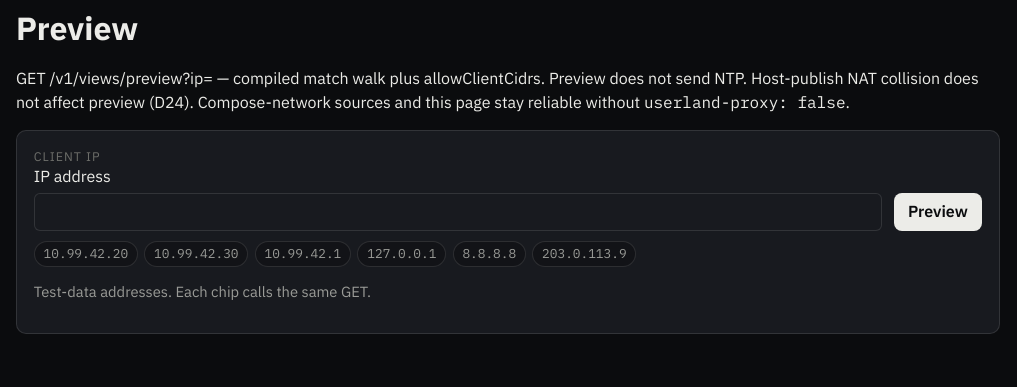
Scenario: PreviewPage › requires an IP on empty submit
Click the button "Preview" at (938, 212), box [894,193,982,231]
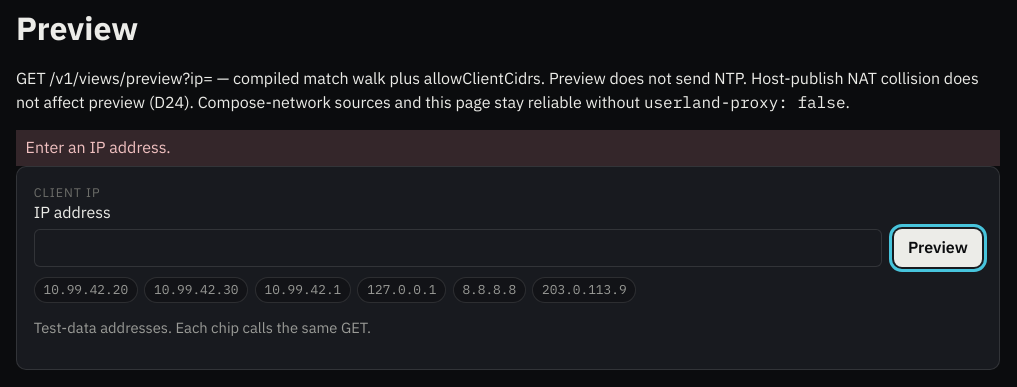
Now the text "Enter an IP address." is shown, box [16,130,1000,166]
